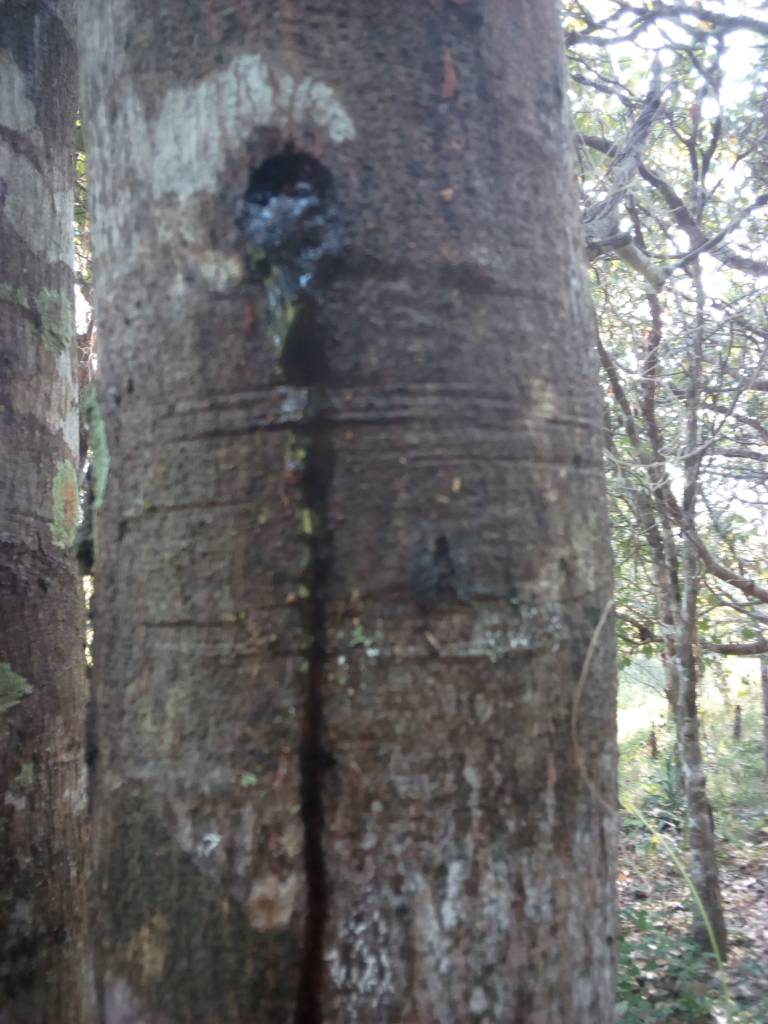Apate terebrans: (205, 128, 368, 263)
